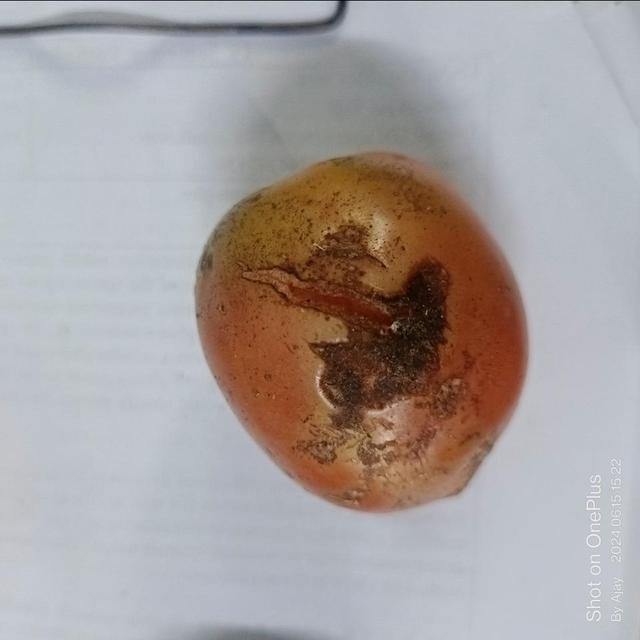Cracking Fruit: (89, 100, 318, 315)
